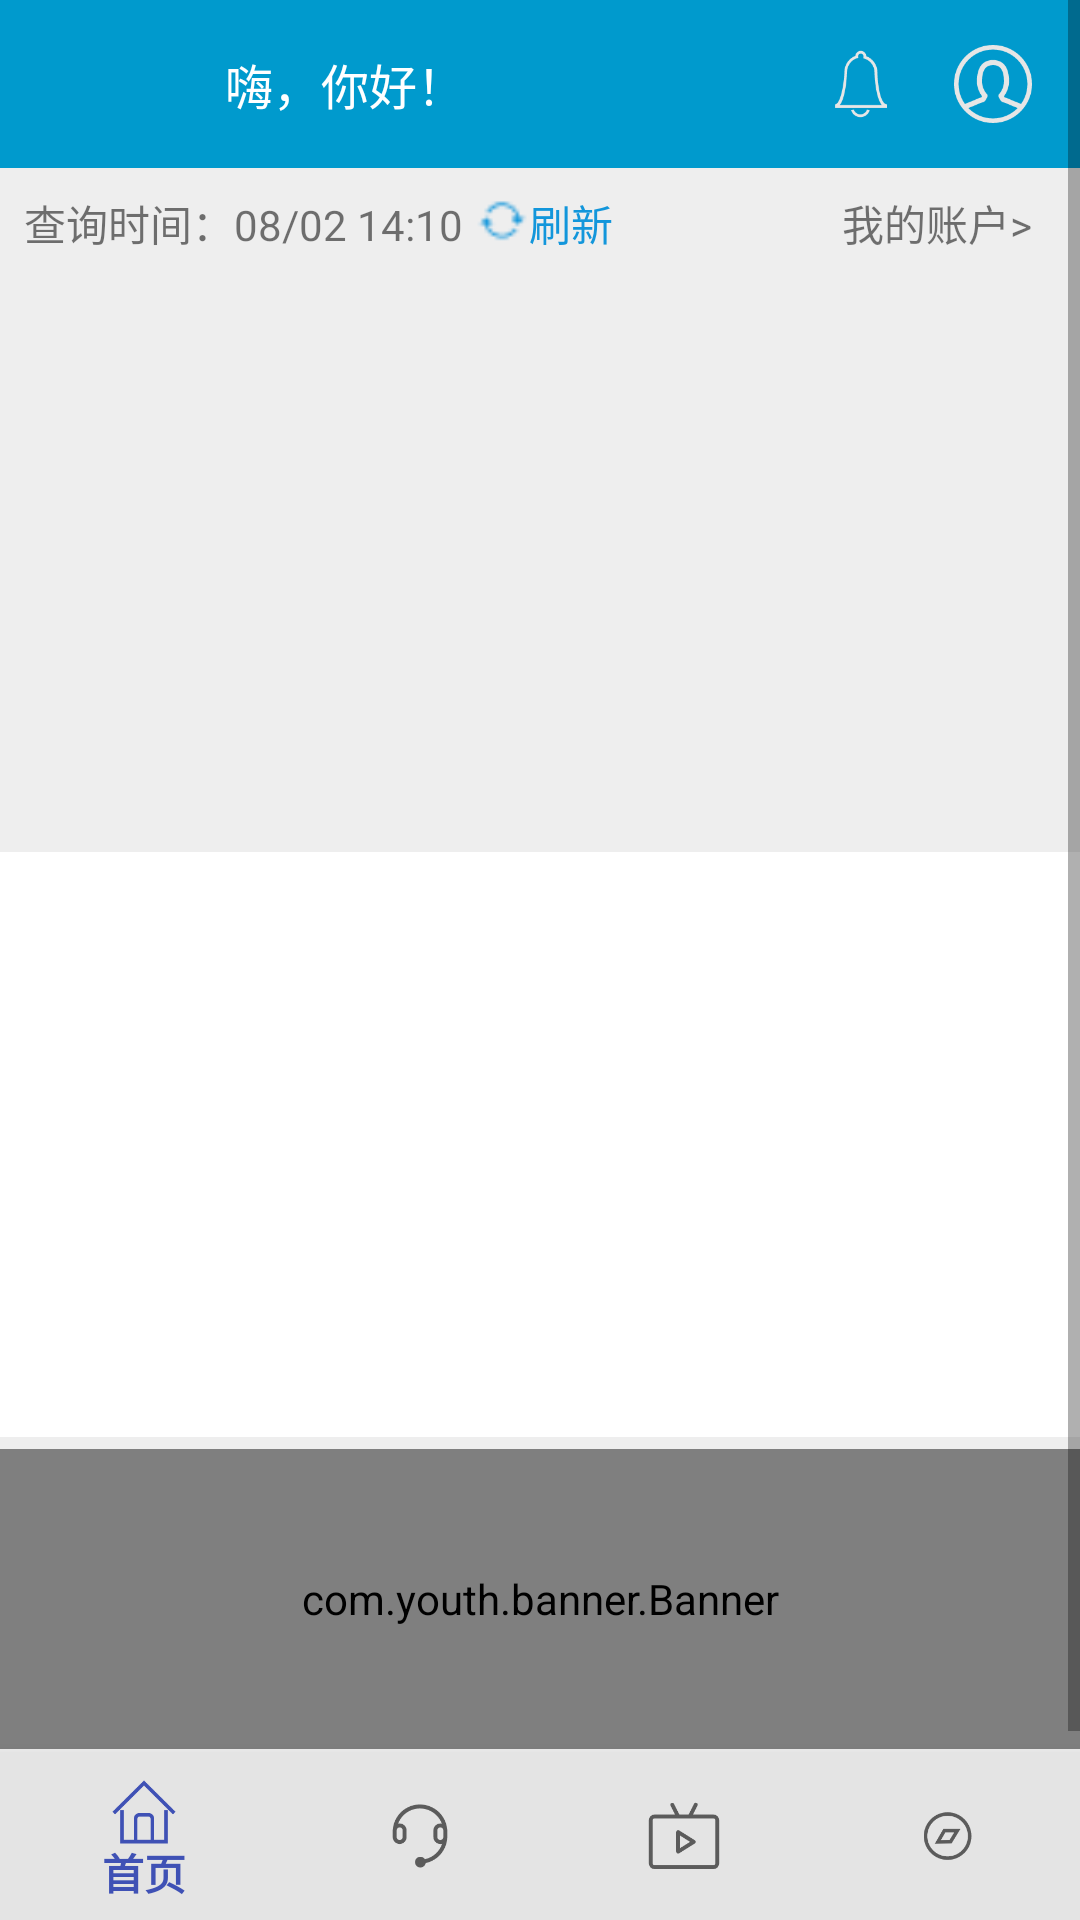

Locate icon controls on the screen. Image size 1080x1920, boxes as (x1, y1, x2, y2).
account: (954, 45, 1032, 123)
alarm: (835, 50, 887, 118)
